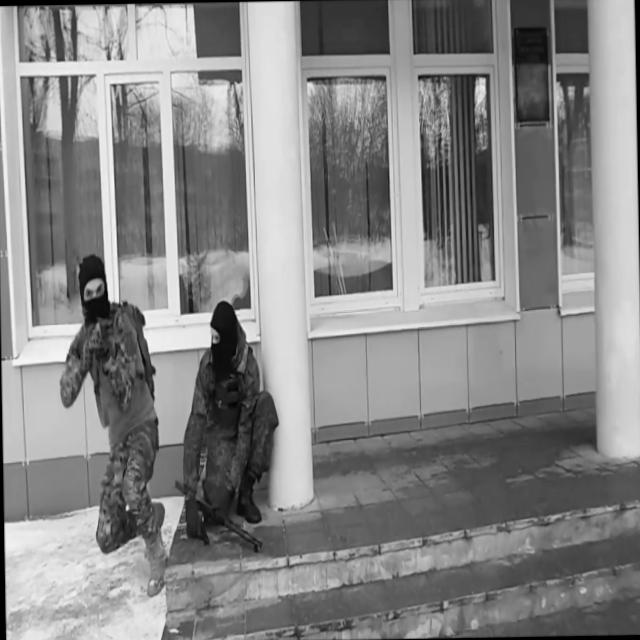gun: (174, 479, 263, 554), (75, 318, 123, 374), (185, 518, 210, 546)
person with a gun: (57, 251, 170, 598), (180, 299, 282, 546)
